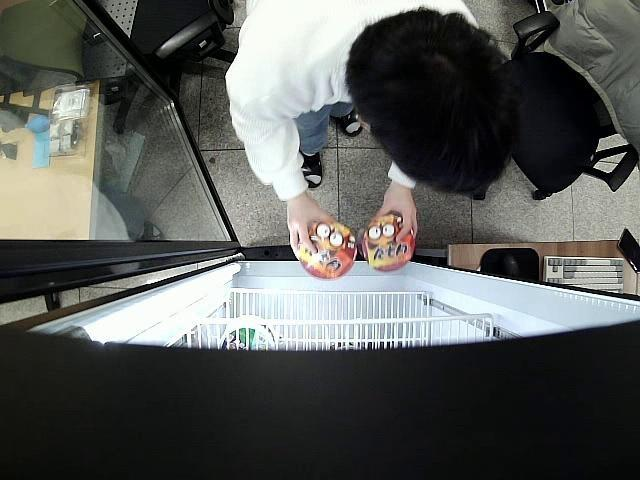05_nuguri_L: (299, 223, 358, 278), (364, 216, 414, 273)
